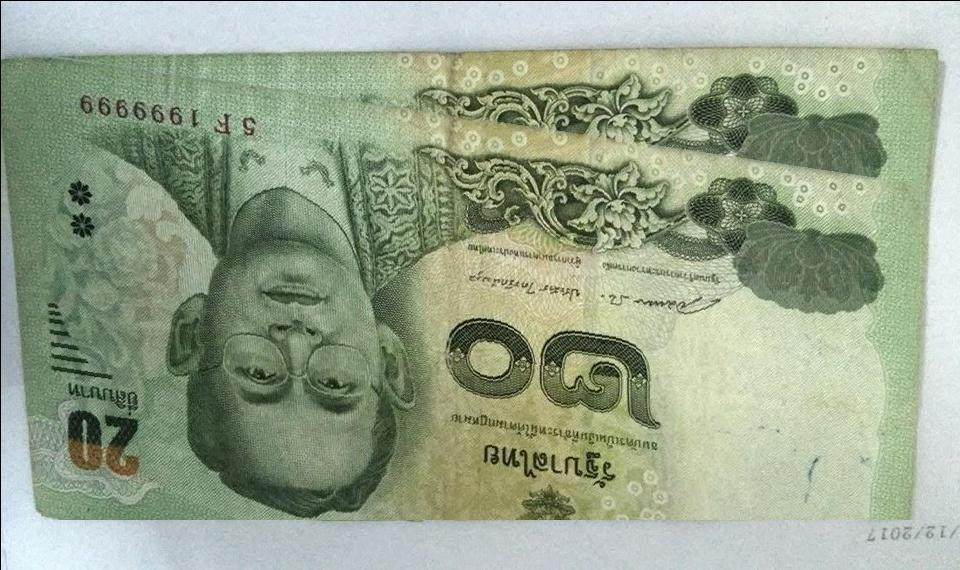20BahtTai: (42, 54, 922, 520)
